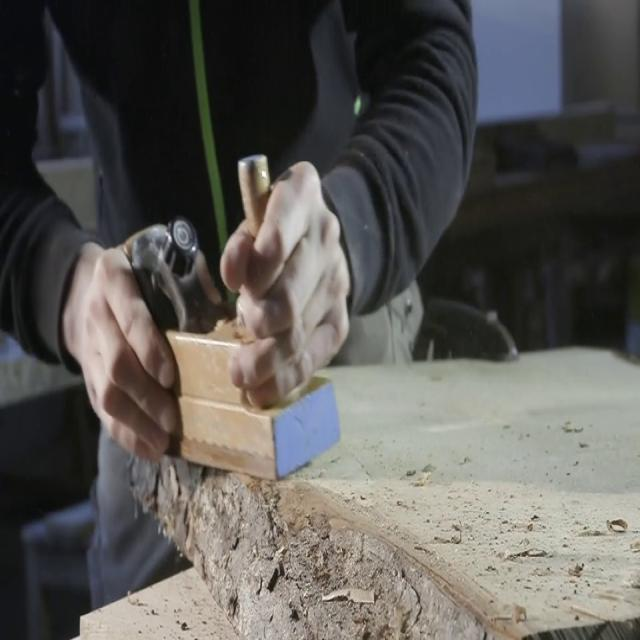not-gloved: (219, 154, 351, 410), (61, 238, 180, 464)
